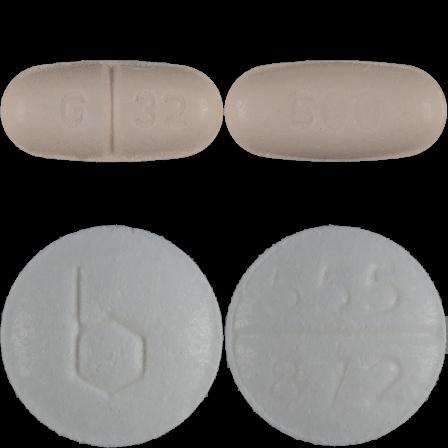50090-0481: (0, 0, 224, 224)
